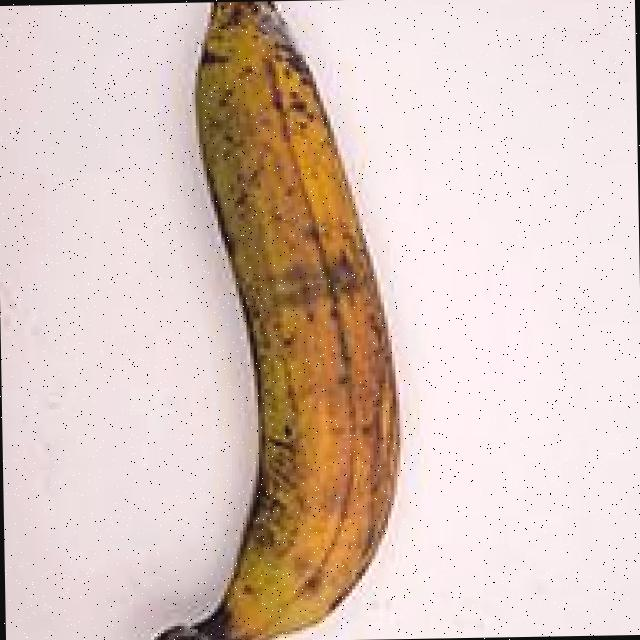Overripe: (41, 0, 467, 640)
